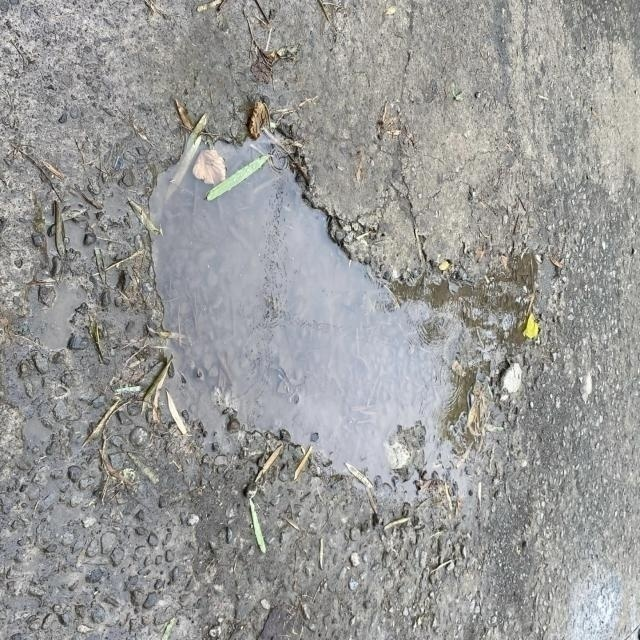pothole: (81, 58, 534, 570)
